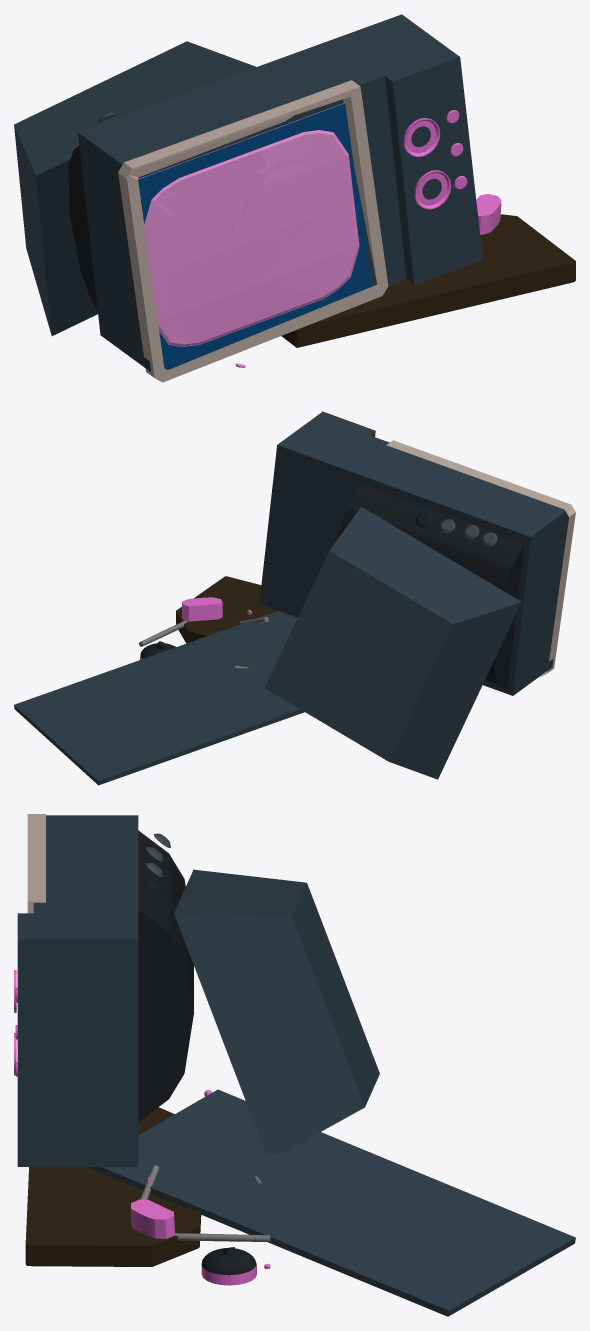
3 views of the same model, one above another, from view 1: azimuth 30°, elevation 25°; view 2: azimuth 150°, elevation 25°; view 3: azimuth 270°, elevation 25° (orthographic). The views are drawn at different scales.
Visible parts, largest first — view 1: polySurface4308, pCube297, pasted__pCube297, pCube295, polySurface4307, polySurface5528, polySurface4497, polySurface5641, pasted__polySurface5641, polySurface5586; view 2: pCube295, pCube296, pCube297, pasted__pCube297, polySurface4497, polySurface5528, polySurface4307, polySurface5586; view 3: pCube296, pCube295, pCube297, pasted__pCube297, polySurface5528, polySurface4497, polySurface4307, polySurface5586, polySurface2978, polySurface5593.
Part boxes in pixels (<box>): polySurface4308: <box>138,103,371,369</box>; pCube297: <box>78,14,451,371</box>; pasted__pCube297: <box>77,17,482,336</box>; pCube295: <box>14,41,255,335</box>; polySurface4307: <box>118,80,388,382</box>; polySurface5528: <box>281,214,575,347</box>; polySurface4497: <box>68,146,97,311</box>; polySurface5641: <box>414,170,451,209</box>; pasted__polySurface5641: <box>403,118,440,157</box>; polySurface5586: <box>476,194,501,234</box>; pCube295: <box>265,507,521,779</box>; pCube296: <box>14,611,304,785</box>; pCube297: <box>259,416,553,695</box>; pasted__pCube297: <box>281,411,569,687</box>; polySurface4497: <box>337,483,524,691</box>; polySurface5528: <box>176,576,277,643</box>; polySurface4307: <box>386,440,575,676</box>; polySurface5586: <box>182,597,222,621</box>; pCube296: <box>90,1089,575,1316</box>; pCube295: <box>174,869,379,1154</box>; pCube297: <box>33,815,138,1166</box>; pasted__pCube297: <box>17,815,138,1166</box>; polySurface5528: <box>25,1107,201,1266</box>; polySurface4497: <box>138,830,193,1121</box>; polySurface4307: <box>27,814,45,913</box>; polySurface5586: <box>131,1199,174,1238</box>; polySurface2978: <box>201,1248,256,1275</box>; polySurface5593: <box>175,1233,270,1241</box>.
Size of the model in its own units: 9.39 by 5.24 by 8.39.
